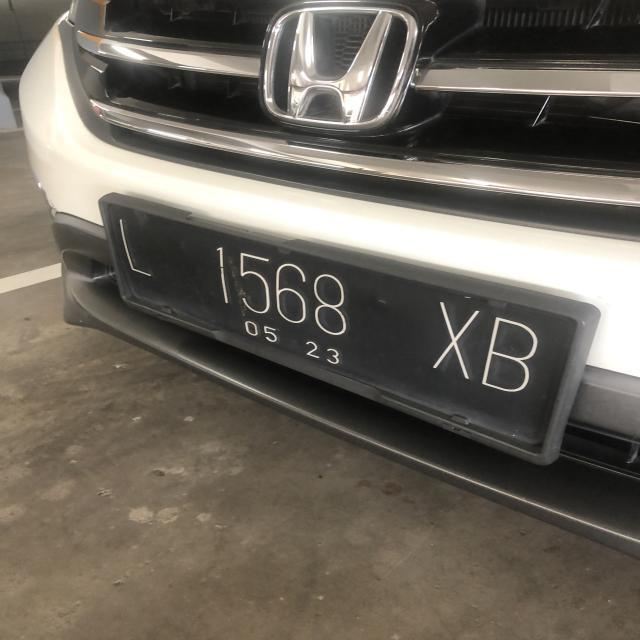1: (210, 241, 236, 313)
5: (237, 251, 274, 318)
6: (273, 262, 310, 324)
8: (311, 270, 348, 335)
B: (482, 317, 544, 399)
L: (112, 218, 162, 284)
X: (429, 300, 479, 378)
